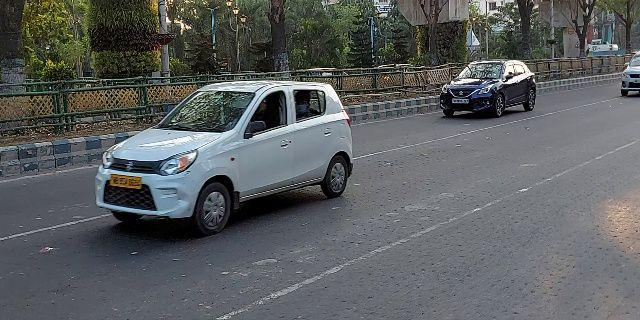Car: (91, 75, 356, 239), (438, 54, 542, 123), (620, 50, 640, 100)
